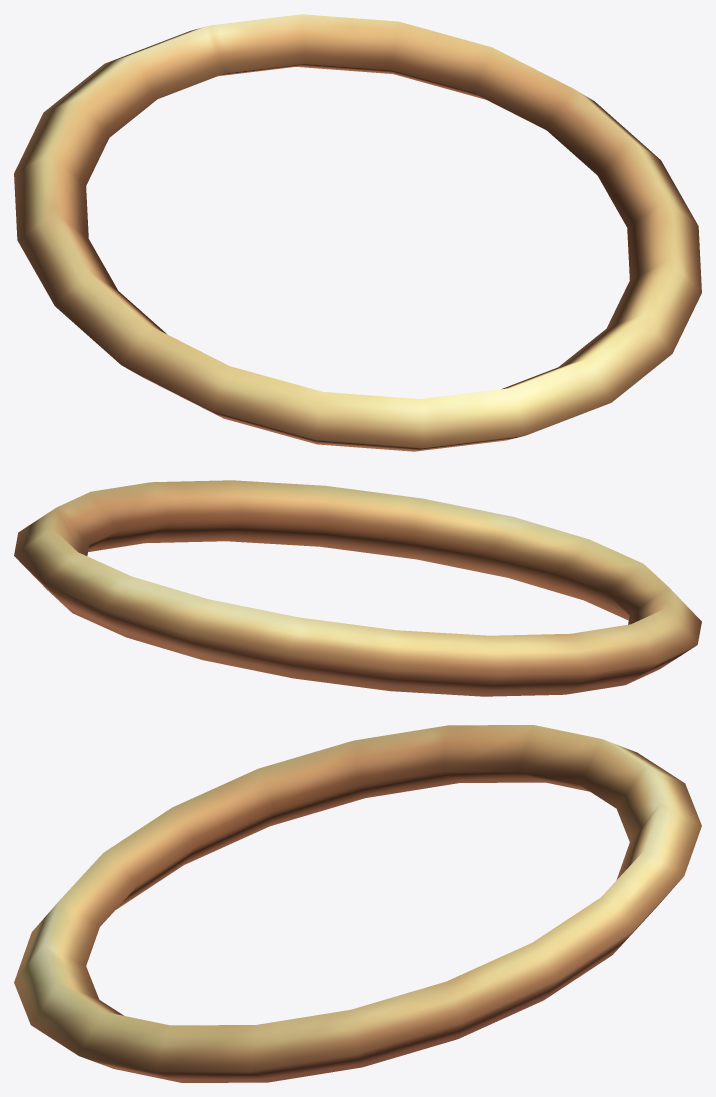
Rendered from Headwear_2600038.fbx.
3 renders of one model, top to bottom at view 1: azimuth 30°, elevation 25°; view 2: azimuth 150°, elevation 25°; view 3: azimuth 270°, elevation 25°, orthographic.
Visible parts, largest first — view 1: Headwear_2600038; view 2: Headwear_2600038; view 3: Headwear_2600038.
Boxes of the visible parts, x1,y1,x2,y2 form: Headwear_2600038: (14, 14, 701, 451); Headwear_2600038: (14, 480, 701, 696); Headwear_2600038: (14, 725, 701, 1082).
Bounding box in the file's own units: 39.42 × 12.23 × 38.26.
